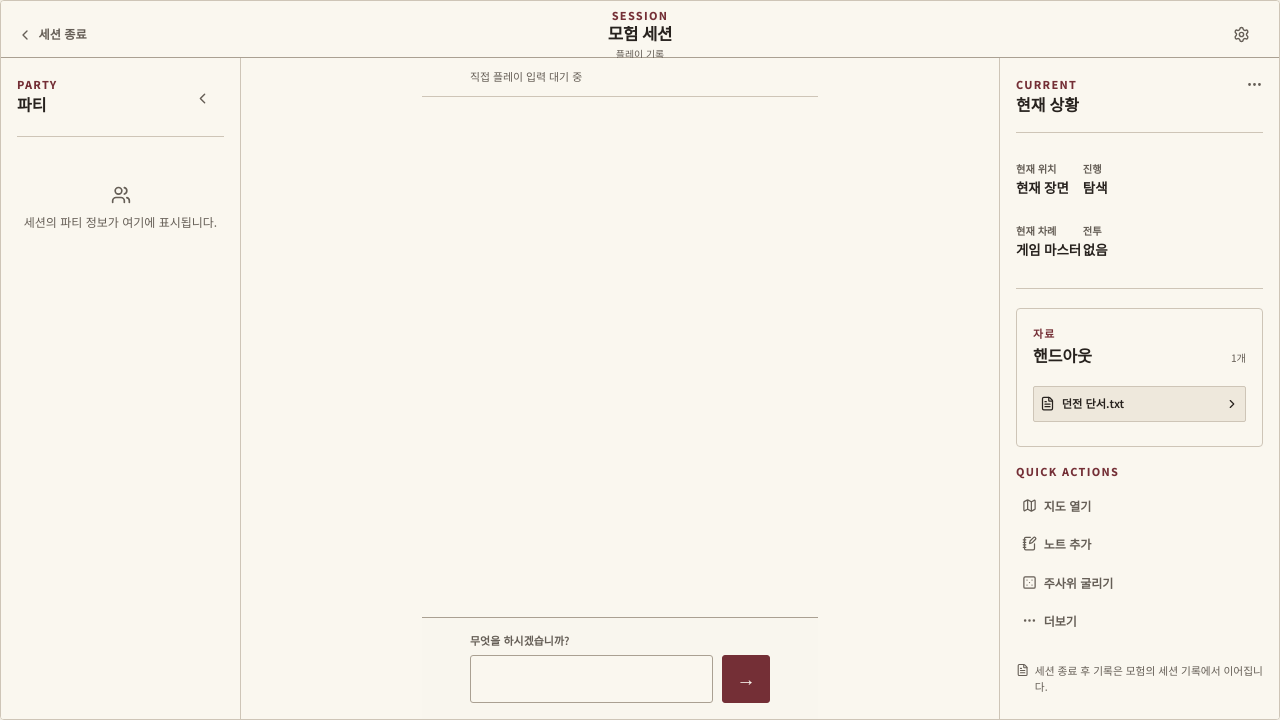
Scenario: SessionRuntime › 게임 시작 후 핸드아웃 목록을 항상 표시하고 열람할 수 있다
Expected: the heading "핸드아웃" is shown, [1033, 347, 1092, 366]
What coordinates should you click on to do the following:
click the button with aria-label "던전 단서.txt 열기"
I would click on:
 (1140, 404)
Its box is [1033, 386, 1246, 422].
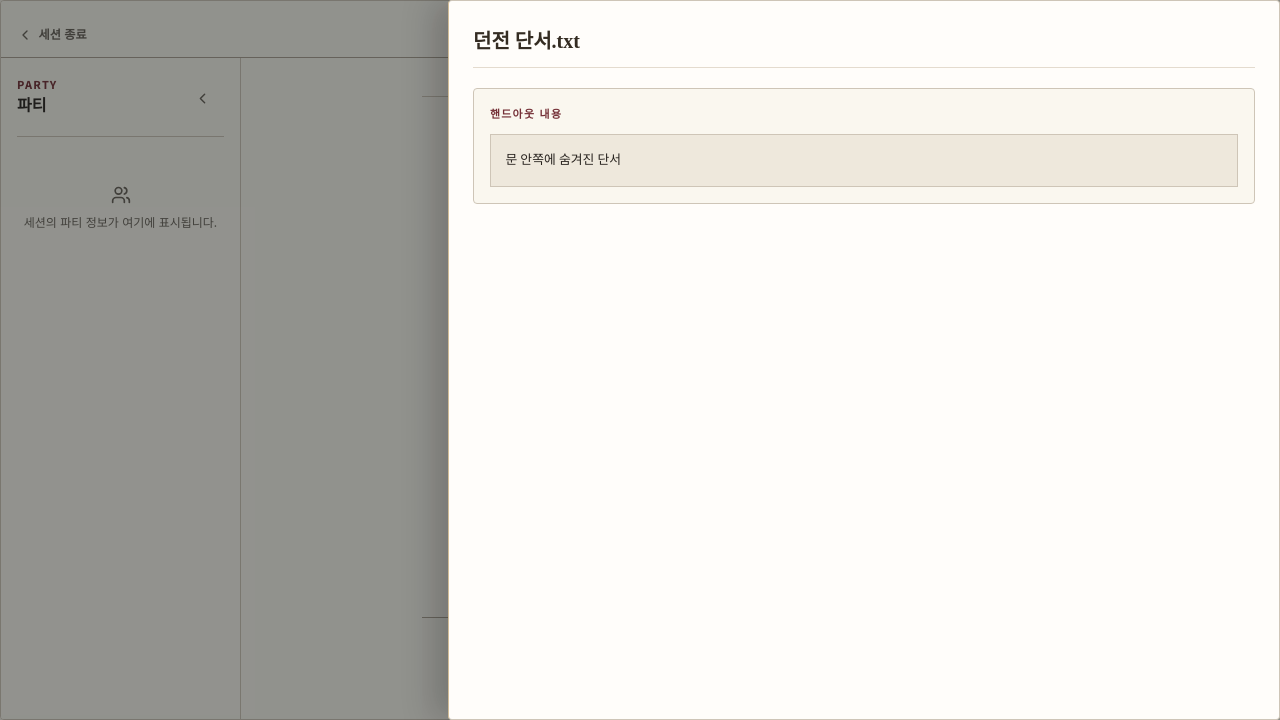
Now the text "문 안쪽에 숨겨진 단서" is shown, box [490, 134, 1238, 187]
